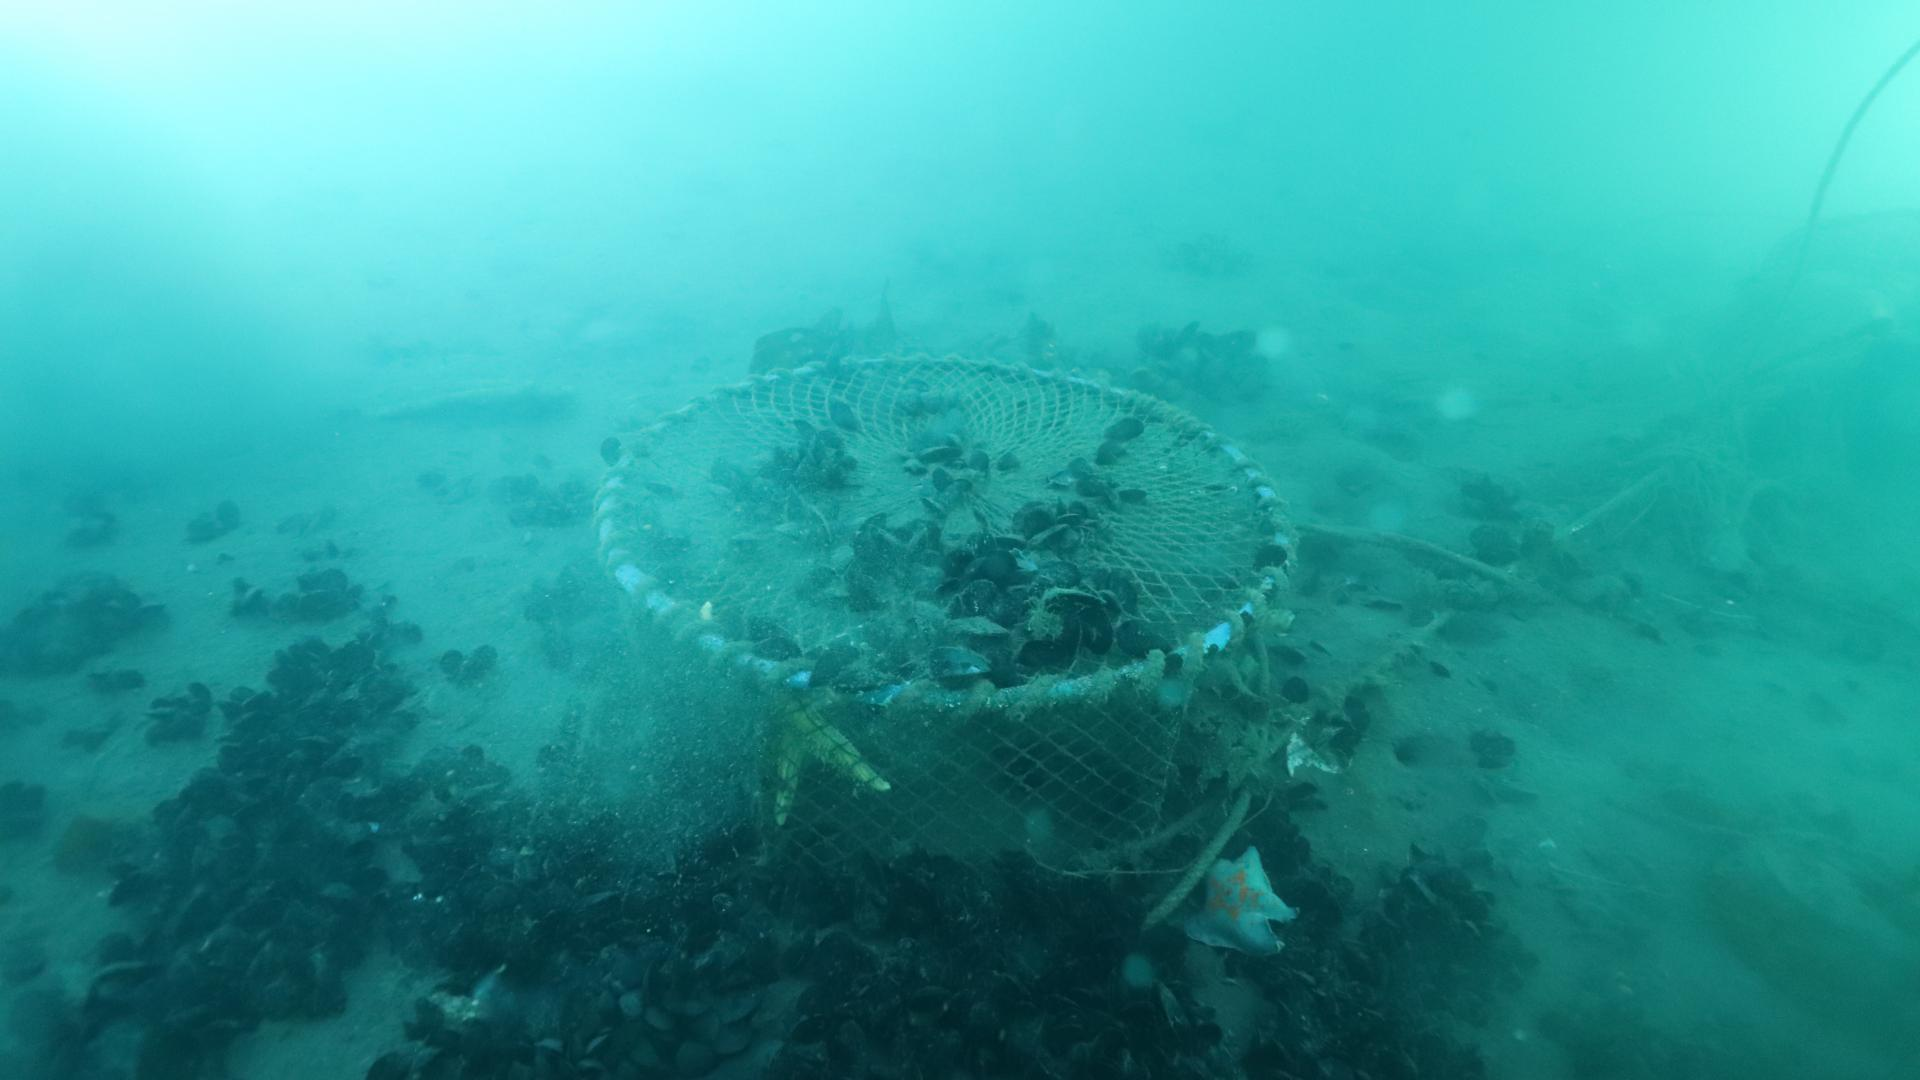circular fish trap: (588, 345, 1298, 853)
